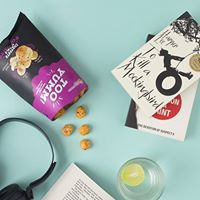plastic: (1, 15, 89, 123)
tooyumm: (38, 65, 72, 103)
